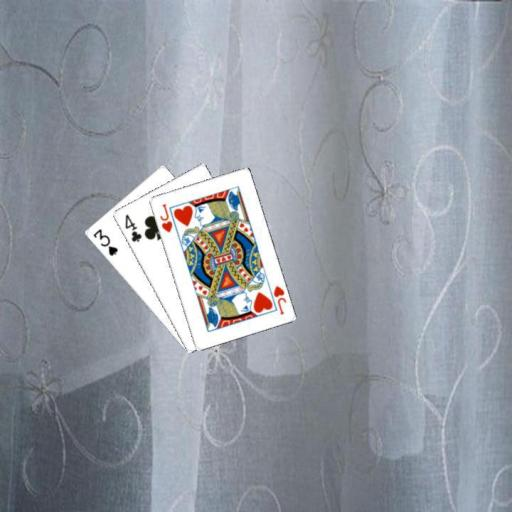3S: (90, 226, 120, 258)
4C: (122, 211, 143, 243)
JH: (157, 200, 174, 234), (271, 282, 288, 316)
